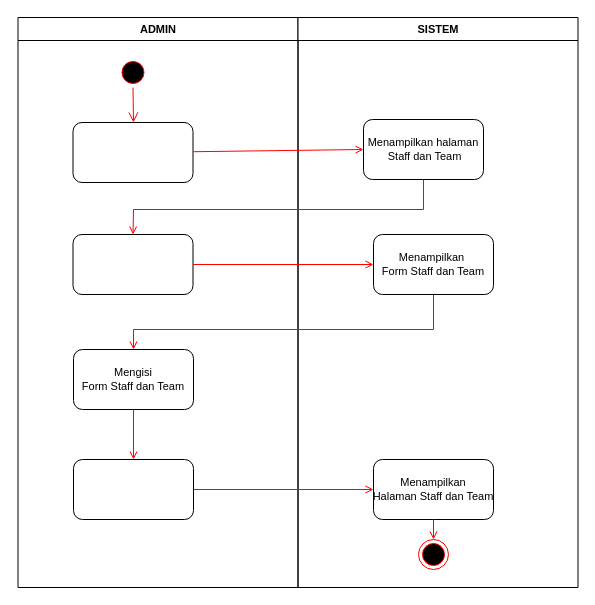
Some shapes in this 595 by 605 pixel diagram are drawn without their labels. Here are the shapes that lost their labels. From the top down, the box of each, then its label:
(72, 122, 193, 182): Memilih Staff dan Team
(72, 234, 193, 294): Menekan Tombol Tambah
(72, 458, 194, 520): Menekan Tombol SImpan
